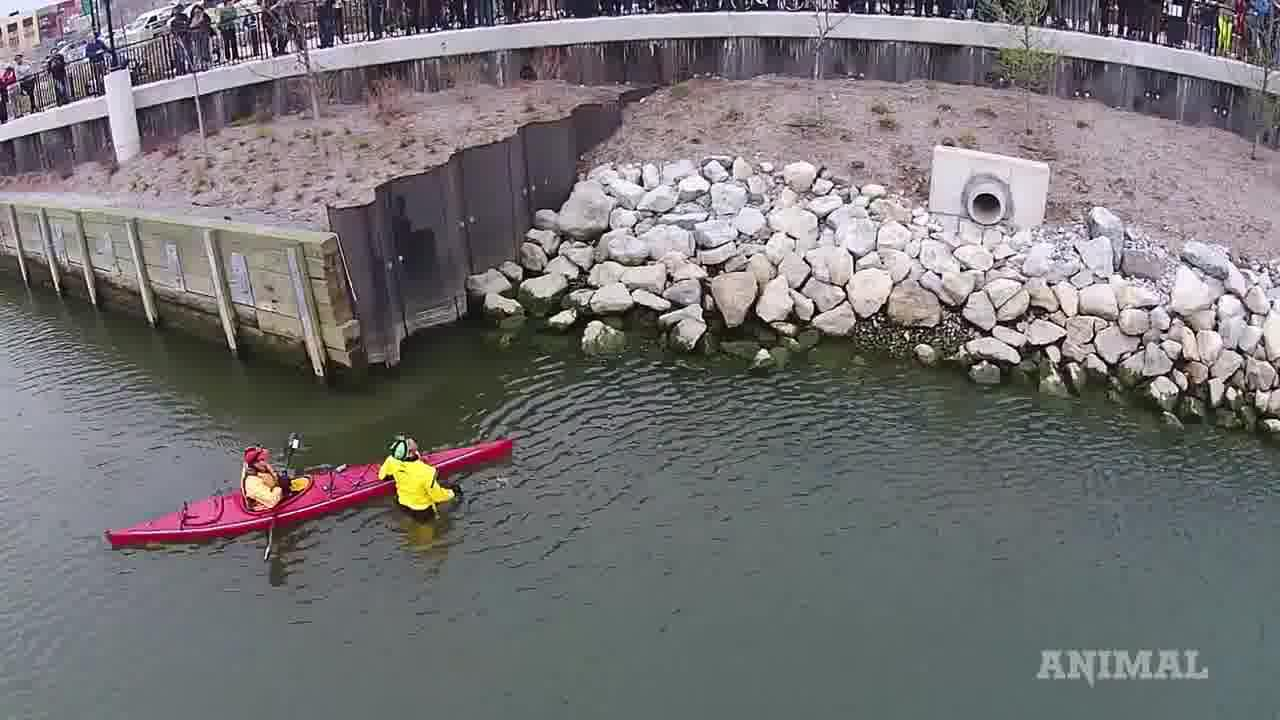human: (376, 430, 420, 472), (233, 444, 279, 480)
